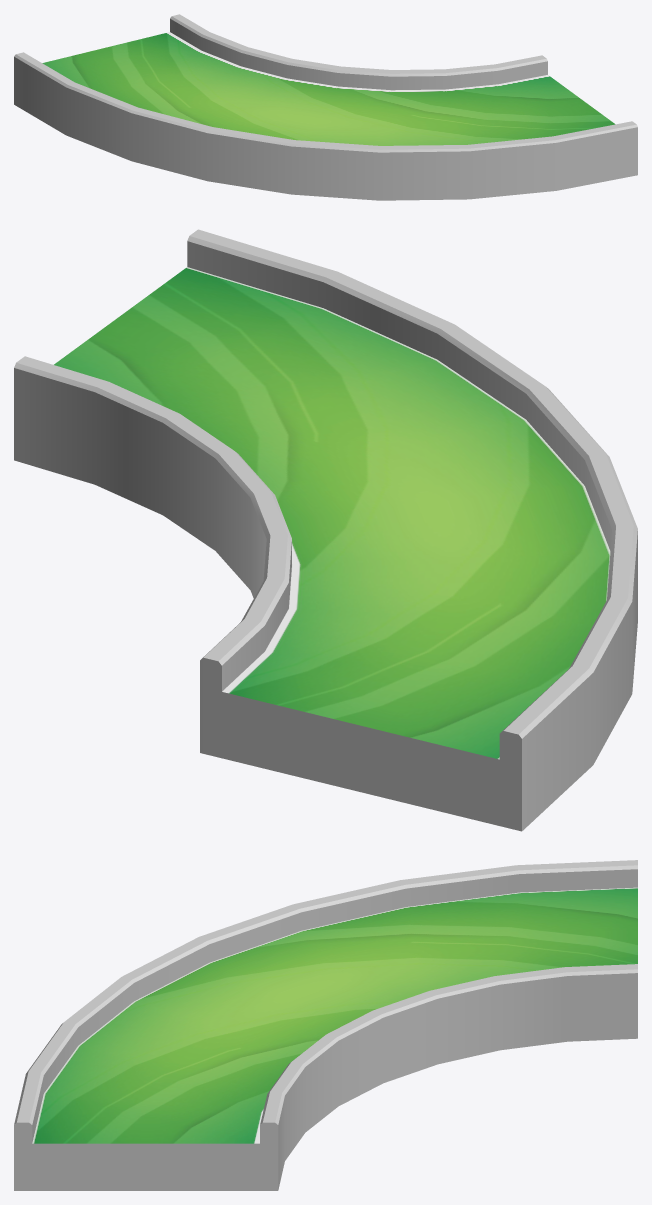
File: PLF0110194.fbx
The picture shows the model from 3 angles, top to bottom: view 1: azimuth 30°, elevation 25°; view 2: azimuth 150°, elevation 25°; view 3: azimuth 270°, elevation 25°; orthographic projection. The views are drawn at different scales.
Visible parts, largest first — view 1: smPLF0110194; view 2: smPLF0110194; view 3: smPLF0110194.
Boxes of the visible parts, left/top/right/bottom form: smPLF0110194: left=14, top=14, right=637, bottom=200; smPLF0110194: left=14, top=229, right=637, bottom=831; smPLF0110194: left=14, top=860, right=637, bottom=1190.
Bounding box in the file's own units: 310 × 37.36 × 309.
